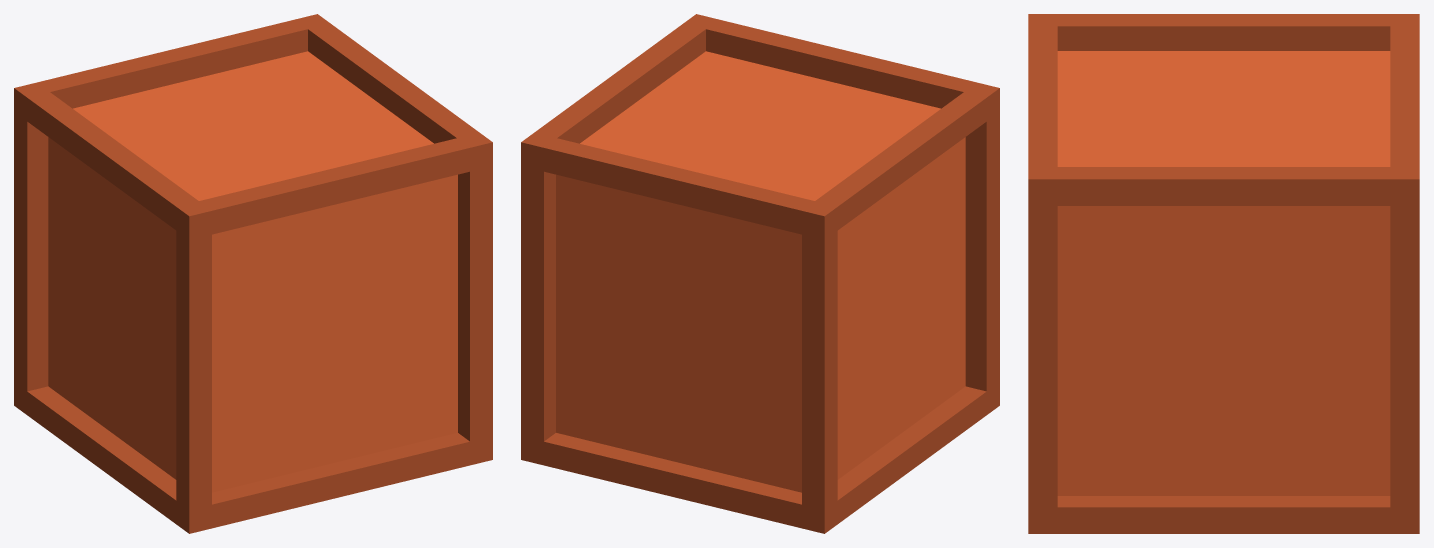
The model's file is WoodCase1.fbx.
The picture shows the model from 3 angles, left to right: view 1: azimuth 30°, elevation 25°; view 2: azimuth 150°, elevation 25°; view 3: azimuth 270°, elevation 25°; orthographic projection. The views are drawn at different scales.
Parts seen in each view (by area): view 1: WoodCase1; view 2: WoodCase1; view 3: WoodCase1.
Boxes of the visible parts, left/top/right/bottom form: WoodCase1: left=14, top=14, right=492, bottom=533; WoodCase1: left=521, top=14, right=999, bottom=533; WoodCase1: left=1028, top=14, right=1419, bottom=533.
Size of the model in its own units: 144 by 144 by 144.
